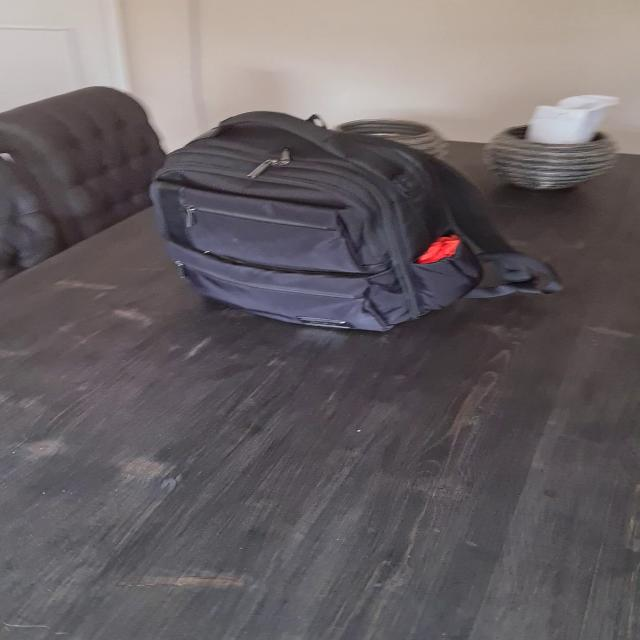backpack: (136, 100, 520, 334)
